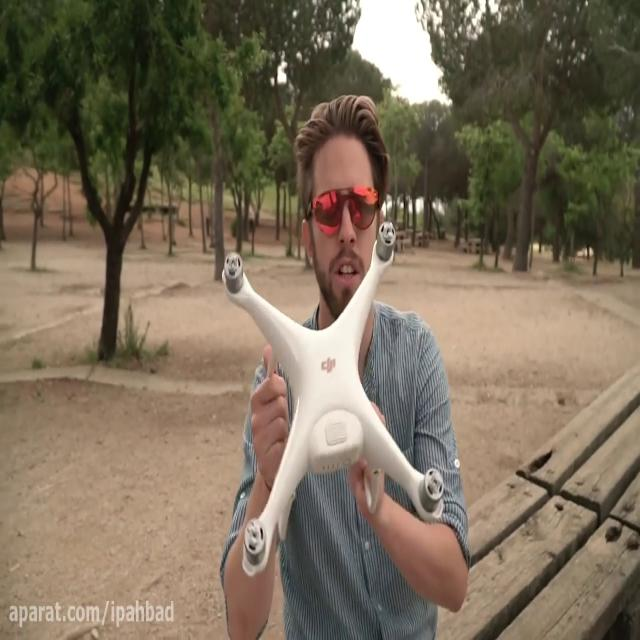drone: (221, 219, 445, 576)
